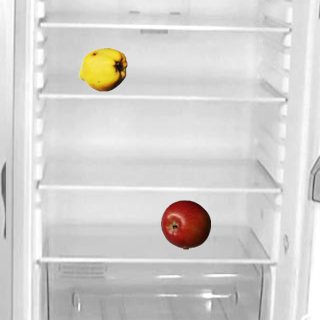Apple Braeburn: (160, 199, 210, 249)
Quince: (77, 44, 127, 94)
